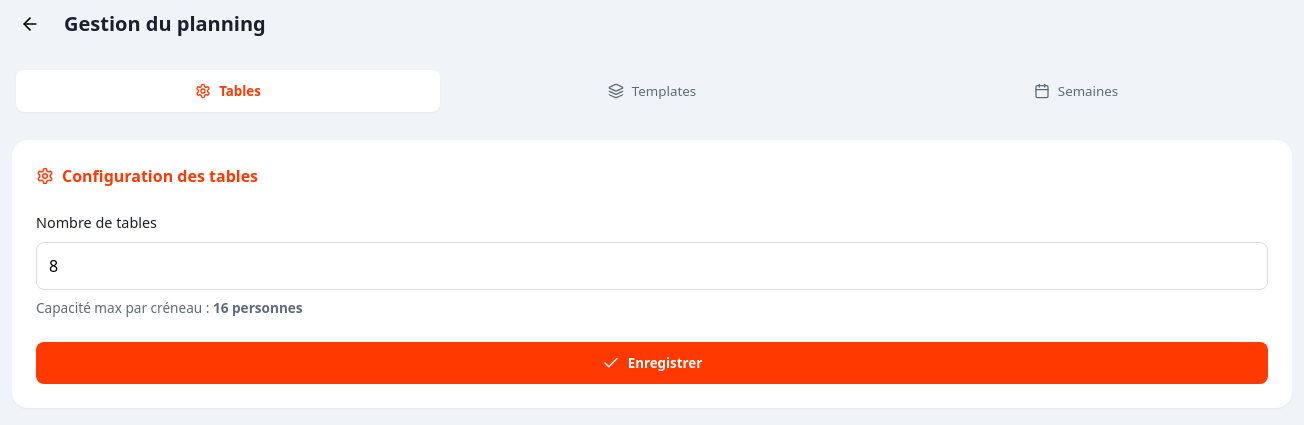
it: PlanningSettings › affiche la liste des templates dans l'onglet Templates
Expected: the button "Tables" is shown, top-left (16, 70), bottom-right (440, 112)
Step 1. Click the button "Templates" → (652, 91), box top-left (440, 70), bottom-right (864, 112)
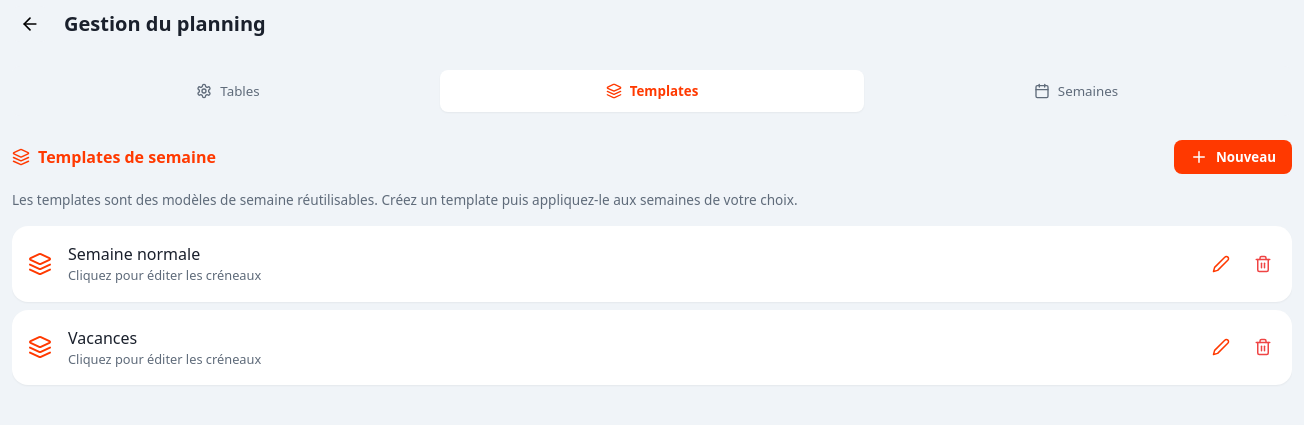
Expected: the text "Semaine normale" is shown, top-left (68, 243), bottom-right (200, 265)
Expected: the text "Vacances" is shown, top-left (68, 327), bottom-right (137, 349)
